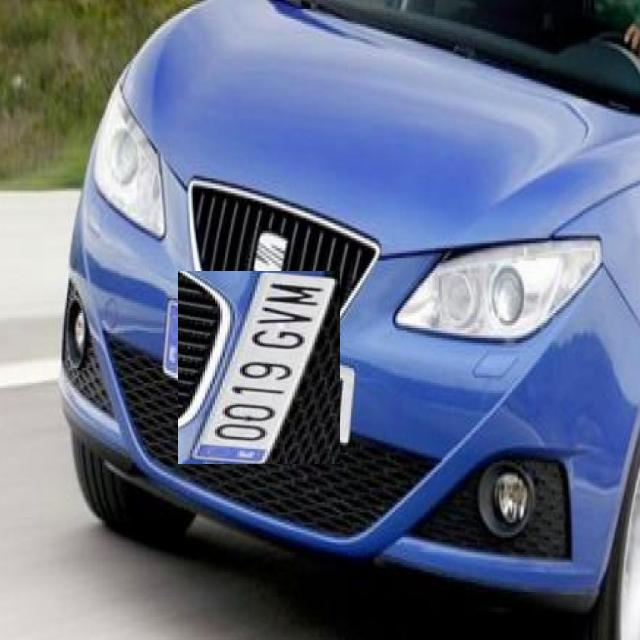License-Plate: (170, 278, 348, 456)
